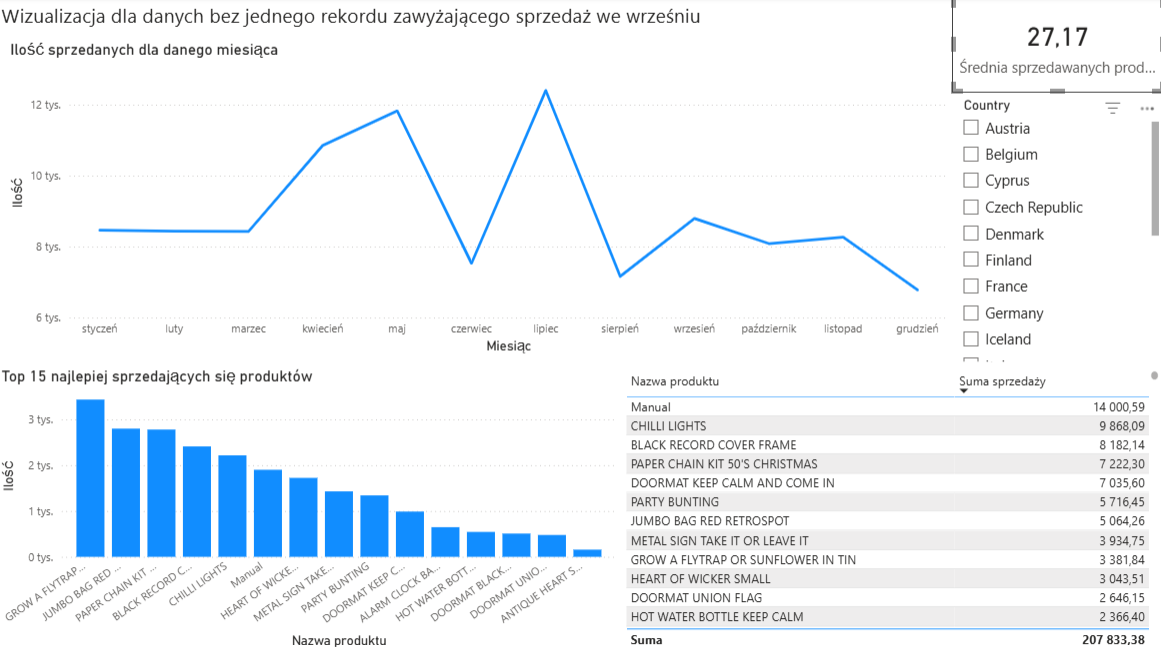

What the dashboard file says about the page in this screenshot:
{"tool":"powerbi","page":{"name":"Dane_bez_jednego","canvas":[1280,720],"ordinal":1},"visuals":[{"type":"slicer","fields":{"Values":["Sheet1 (2).Country"]},"box":[1048.4,105.7,231.9,300.5],"z":0},{"type":"tableEx","fields":{"Values":["Sheet1 (2).Description","Sheet1 (2).Pełna_kwota_2"]},"box":[684.7,406.2,595.5,314.2],"z":1000},{"type":"clusteredColumnChart","title":"Top 15 najlepiej sprzedających się produktów","fields":{"Category":["Sheet1 (2).Description"],"Y":["Sum(Sheet1 (2).Quantity)"]},"box":[0,406.2,684.7,314.2],"z":2000},{"type":"lineChart","title":"Ilość sprzedanych dla danego miesiąca","fields":{"Category":["Sheet1 (2).InvoiceDate.Odmiana.Hierarchia dat.Miesiąc"],"Y":["Sum(Sheet1 (2).Quantity)"]},"box":[9.6,46.7,1038.8,349.9],"z":3000},{"type":"textbox","box":[0,0,830.2,46.7],"z":4000},{"type":"card","fields":{"Values":["Avg(Sheet1 (2).Quantity)"]},"box":[1048.1,0,231.9,105.7],"z":4001}]}

Visuals, with their boxes in screenshot pixels (x1, y1, x2, y2), scaled from the page's 1280x720 canvas onto the 1161x647 screenshot:
slicer - Sheet1 (2).Country: detection(951, 95, 1160, 365)
tableEx - Sheet1 (2).Description x Sheet1 (2).Pełna_kwota_2: detection(621, 365, 1160, 646)
"Top 15 najlepiej sprzedających się produktów" clusteredColumnChart: detection(0, 365, 621, 646)
"Ilość sprzedanych dla danego miesiąca" lineChart: detection(9, 42, 951, 356)
textbox: detection(0, 0, 753, 42)
card - Avg(Sheet1 (2).Quantity): detection(951, 0, 1160, 95)
